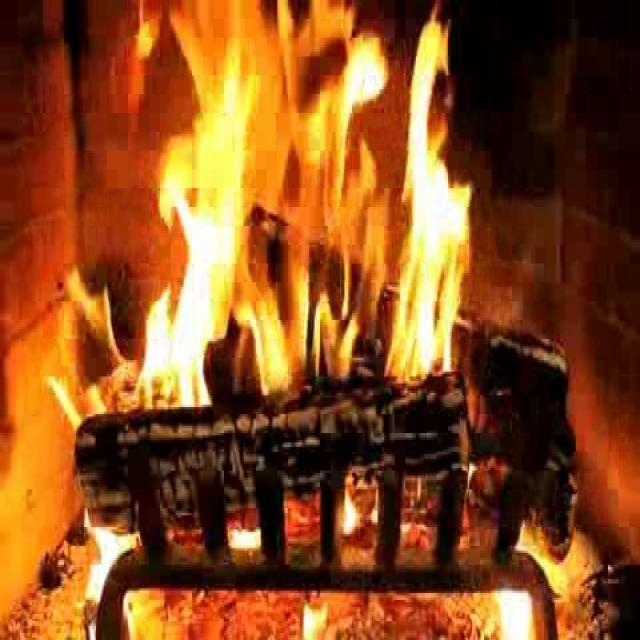Fire: (112, 5, 475, 419)
